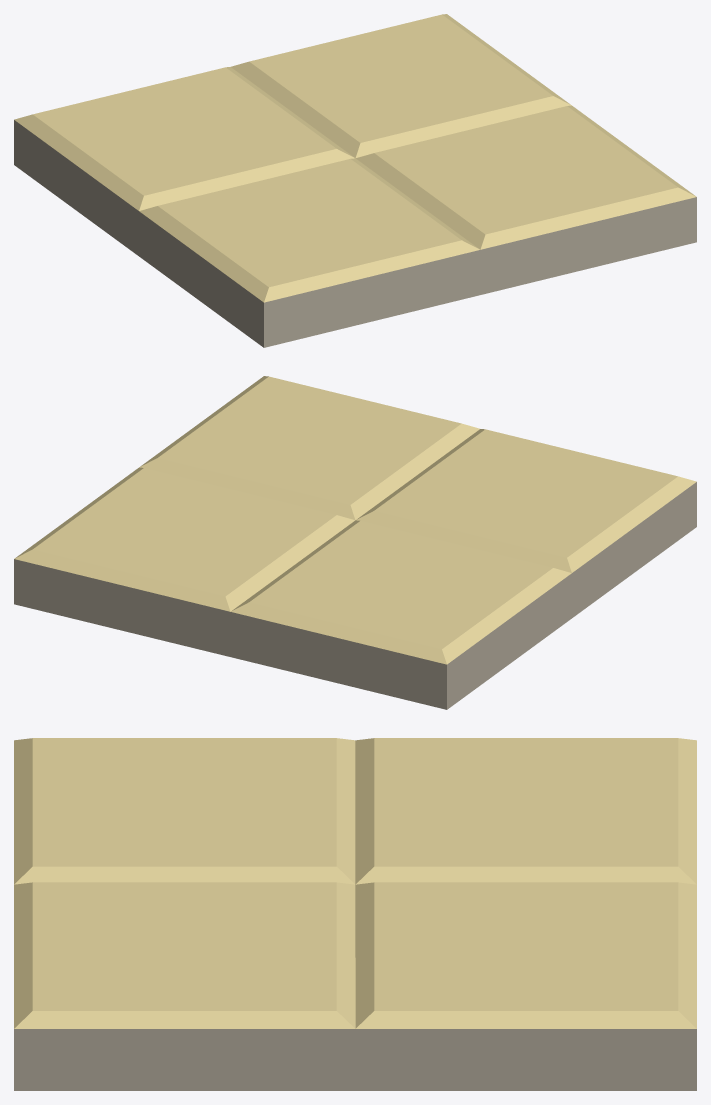
Rendered from Mesh_GroundCeramic_B1.fbx.
3 views of the same model, one above another, from view 1: azimuth 30°, elevation 25°; view 2: azimuth 150°, elevation 25°; view 3: azimuth 270°, elevation 25° (orthographic). The views are drawn at different scales.
Visible parts, largest first — view 1: Mesh_GroundCeramic_B1; view 2: Mesh_GroundCeramic_B1; view 3: Mesh_GroundCeramic_B1.
Part boxes in pixels (x1,y1,x2,y2): Mesh_GroundCeramic_B1: (14, 14, 696, 347); Mesh_GroundCeramic_B1: (14, 376, 696, 709); Mesh_GroundCeramic_B1: (14, 738, 696, 1090).
Size of the model in its own units: 1 by 0.1164 by 1.
